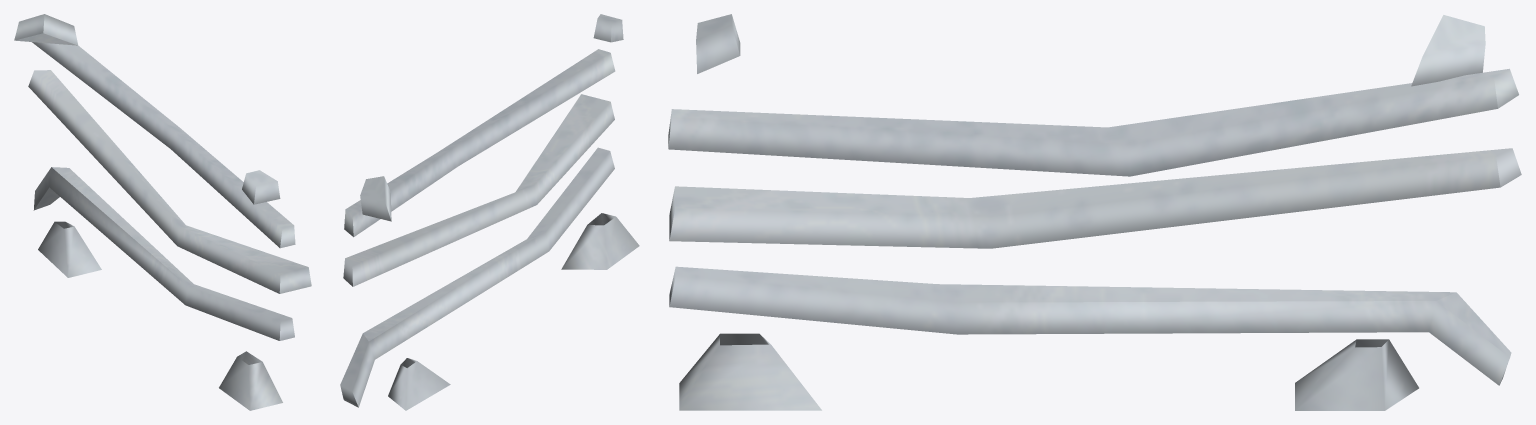
File: Fence_4_Snow.fbx
The picture shows the model from 3 angles, left to right: view 1: azimuth 30°, elevation 25°; view 2: azimuth 150°, elevation 25°; view 3: azimuth 270°, elevation 25°; orthographic projection. The views are drawn at different scales.
Parts seen in each view (by area): view 1: Fence_4_Snow; view 2: Fence_4_Snow; view 3: Fence_4_Snow.
Boxes of the visible parts, x1,y1,x2,y2 form: Fence_4_Snow: (14,14,311,410); Fence_4_Snow: (340,14,639,410); Fence_4_Snow: (668,14,1521,410).
Bounding box in the file's own units: 34.03 × 117 × 235.
